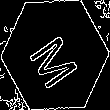M_NE: (25, 22, 85, 88)
